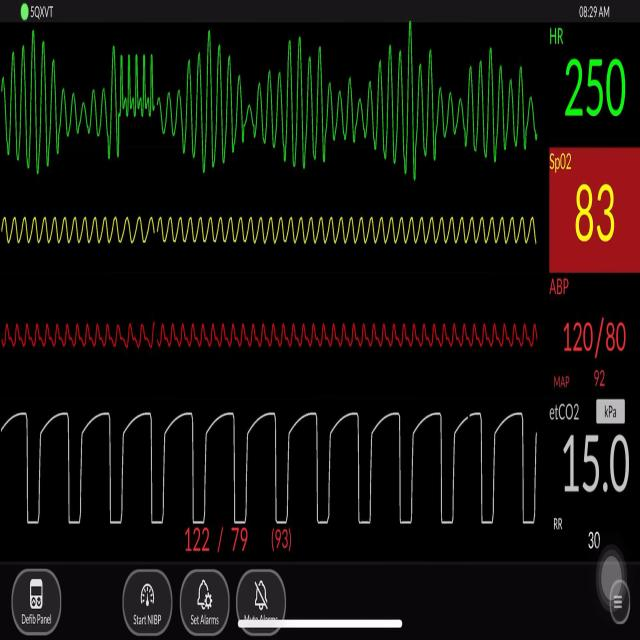danger: (168, 33, 532, 178), (1, 34, 106, 180), (119, 45, 161, 124)
